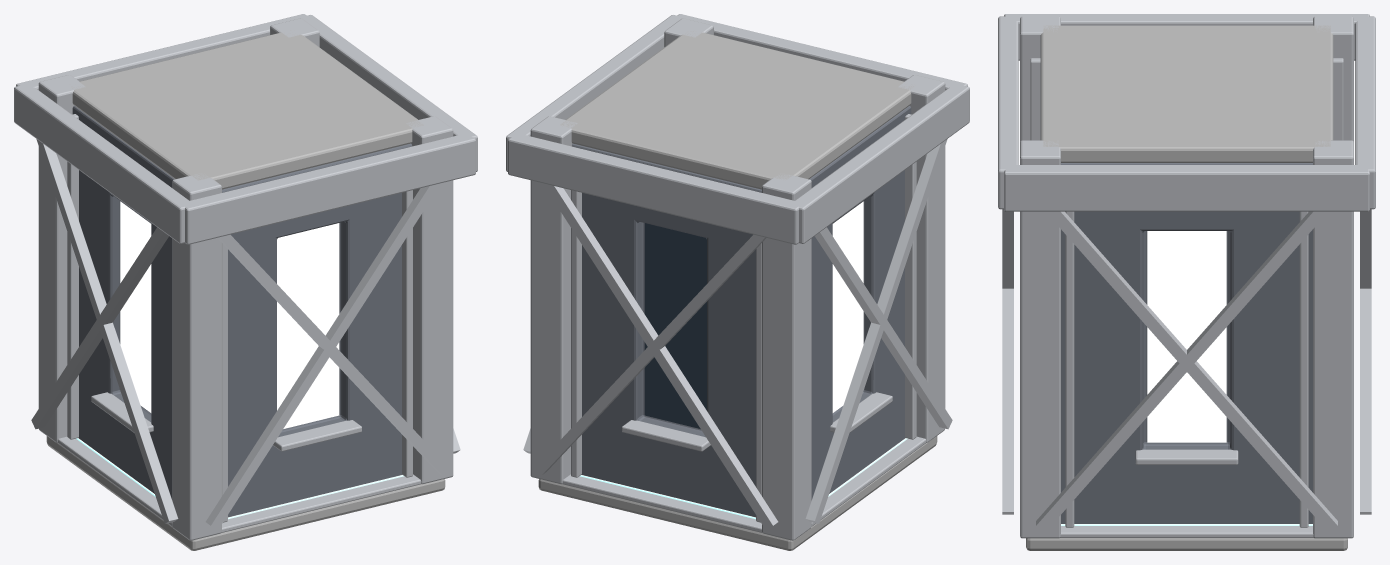
Rendered from exo_2x2.glb.
3 renders of one model, left to right at view 1: azimuth 30°, elevation 25°; view 2: azimuth 150°, elevation 25°; view 3: azimuth 270°, elevation 25°, orthographic. The views are drawn at different scales.
Visible parts, largest first — view 1: ext_wall, int_columns, int_ceiling, ext_panes_lit, ext_truss3, ext_frames, ext_truss2, ext_brace3_0_1, ext_brace2_0_1, int_slab, int_slab_edge, ext_brace3_0_0 (+4 smaller); view 2: ext_wall, int_columns, int_ceiling, ext_truss1, ext_panes_dark, ext_frames, ext_truss2, ext_brace1_0_1, ext_brace2_0_0, ext_panes_lit, int_slab, int_slab_edge (+5 smaller); view 3: ext_wall, int_ceiling, int_columns, ext_truss0, ext_panes_lit, ext_frames, ext_brace0_0_0, ext_brace0_0_1, int_slab, ext_truss2, ext_truss1, ext_truss3 (+6 smaller).
Part boxes in pixels (x1,y1,x2,y2): ext_wall: (72,106,411,517); int_columns: (38,18,453,540); int_ceiling: (71,30,423,189); ext_panes_lit: (120,201,339,428); ext_truss3: (183,133,475,244); ext_frames: (67,114,412,522); ext_truss2: (14,85,193,243); ext_brace3_0_1: (205,183,441,529); ext_brace2_0_1: (36,139,178,523); int_slab: (46,436,445,550); int_slab_edge: (57,436,421,532); ext_brace3_0_0: (217,234,449,475); ext_wall: (572,106,911,517); int_columns: (530,18,945,540); int_ceiling: (560,31,913,189); ext_truss1: (508,133,802,244); ext_panes_dark: (644,223,706,428); ext_frames: (571,114,916,522); ext_truss2: (791,84,969,243); ext_brace1_0_1: (542,183,778,529); ext_brace2_0_0: (805,139,947,523); ext_panes_lit: (832,201,863,412); int_slab: (538,436,937,550); int_slab_edge: (562,436,926,532); ext_wall: (1061,163,1312,523); int_ceiling: (1040,25,1333,162); int_columns: (1020,16,1353,538); ext_truss0: (1004,165,1369,211); ext_panes_lit: (1147,231,1226,442); ext_frames: (1030,58,1343,527); ext_brace0_0_0: (1046,211,1337,532); ext_brace0_0_1: (1036,211,1327,532); int_slab: (1026,538,1347,550); ext_truss2: (1004,14,1369,60); ext_truss1: (1355,16,1375,209); ext_truss3: (998,16,1018,209).
Size of the model in its own units: 2.58 by 3 by 2.58.
